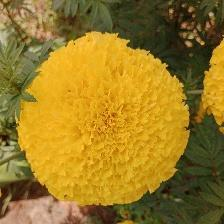marigold: (17, 30, 192, 208)
